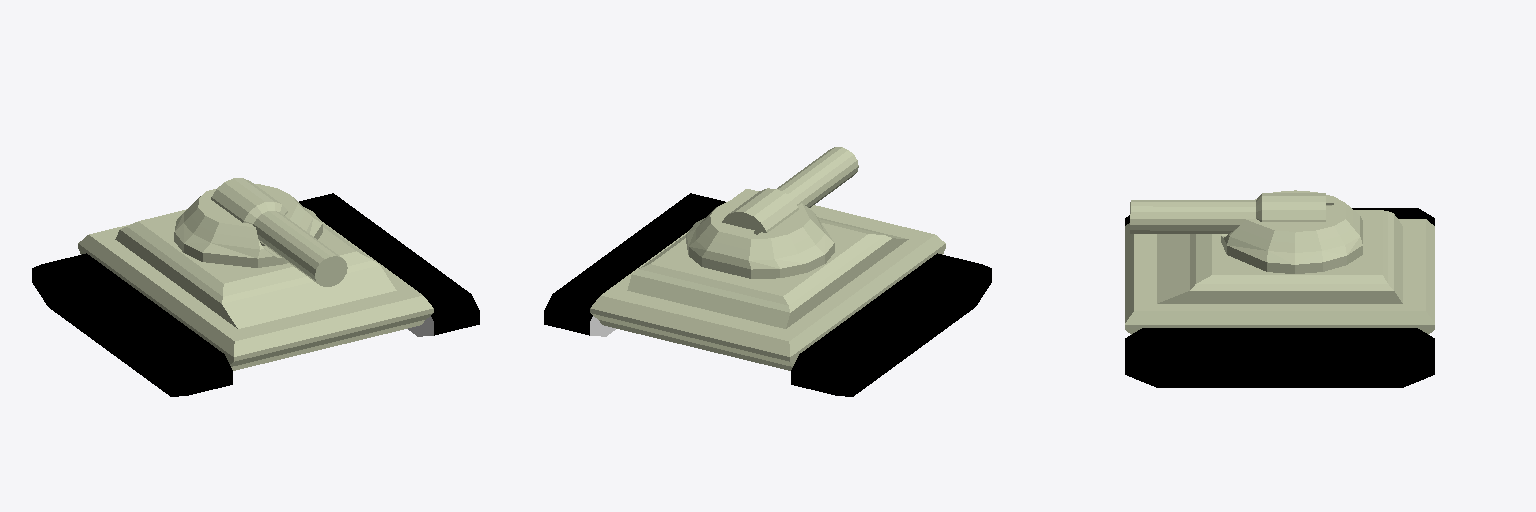
3 views of the same model, side by side, from view 1: azimuth 30°, elevation 25°; view 2: azimuth 150°, elevation 25°; view 3: azimuth 270°, elevation 25° (orthographic).
Parts seen in each view (by area): view 1: Cube2, Cube1, Cylinder4_s_Cylinder4_sep8, Cylinder4_copy5; view 2: Cube2, Cube1, Cylinder4_s_Cylinder4_sep8, Cylinder4_copy5; view 3: Cube2, Cube1, Cylinder4_s_Cylinder4_sep8, Cylinder4_copy5.
Part boxes in pixels (bbox=[...]): Cube2: bbox=[78, 209, 433, 370]; Cube1: bbox=[32, 193, 479, 396]; Cylinder4_s_Cylinder4_sep8: bbox=[174, 184, 322, 267]; Cylinder4_copy5: bbox=[211, 178, 347, 286]; Cube2: bbox=[590, 189, 945, 370]; Cube1: bbox=[544, 193, 991, 396]; Cylinder4_s_Cylinder4_sep8: bbox=[686, 197, 834, 278]; Cylinder4_copy5: bbox=[722, 147, 858, 234]; Cube2: bbox=[1125, 210, 1434, 334]; Cube1: bbox=[1125, 208, 1434, 387]; Cylinder4_s_Cylinder4_sep8: bbox=[1221, 190, 1362, 273]; Cylinder4_copy5: bbox=[1130, 193, 1325, 233].
Size of the model in its own units: 2.17 by 0.8571 by 2.
Materials: 3 (1 with a texture image).